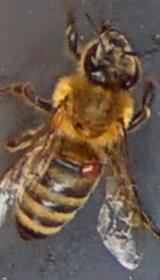varroa_mite: (74, 156, 104, 182)
